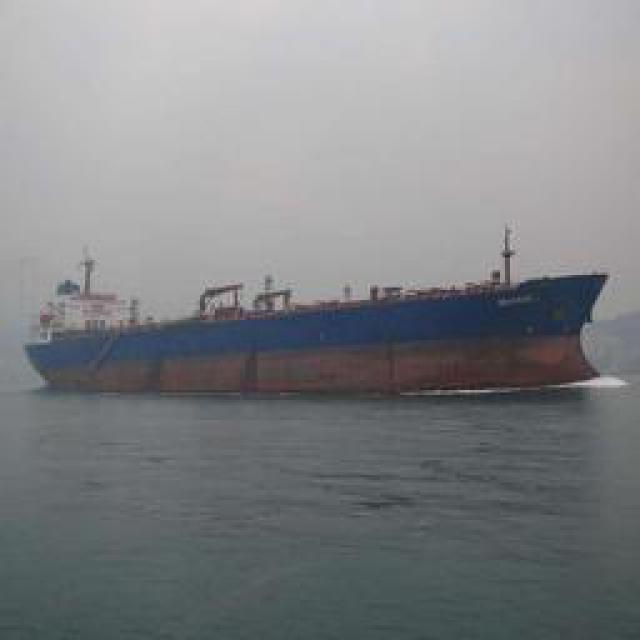Ship: (11, 253, 629, 391)
